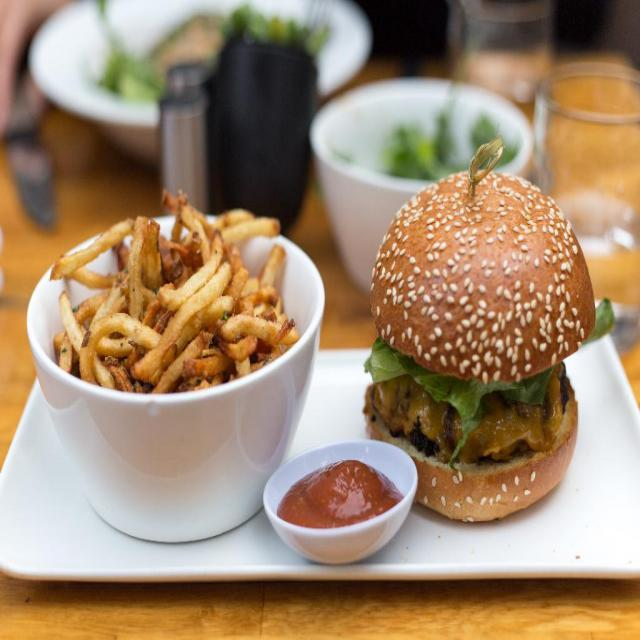Hamburger: (363, 172, 615, 524)
